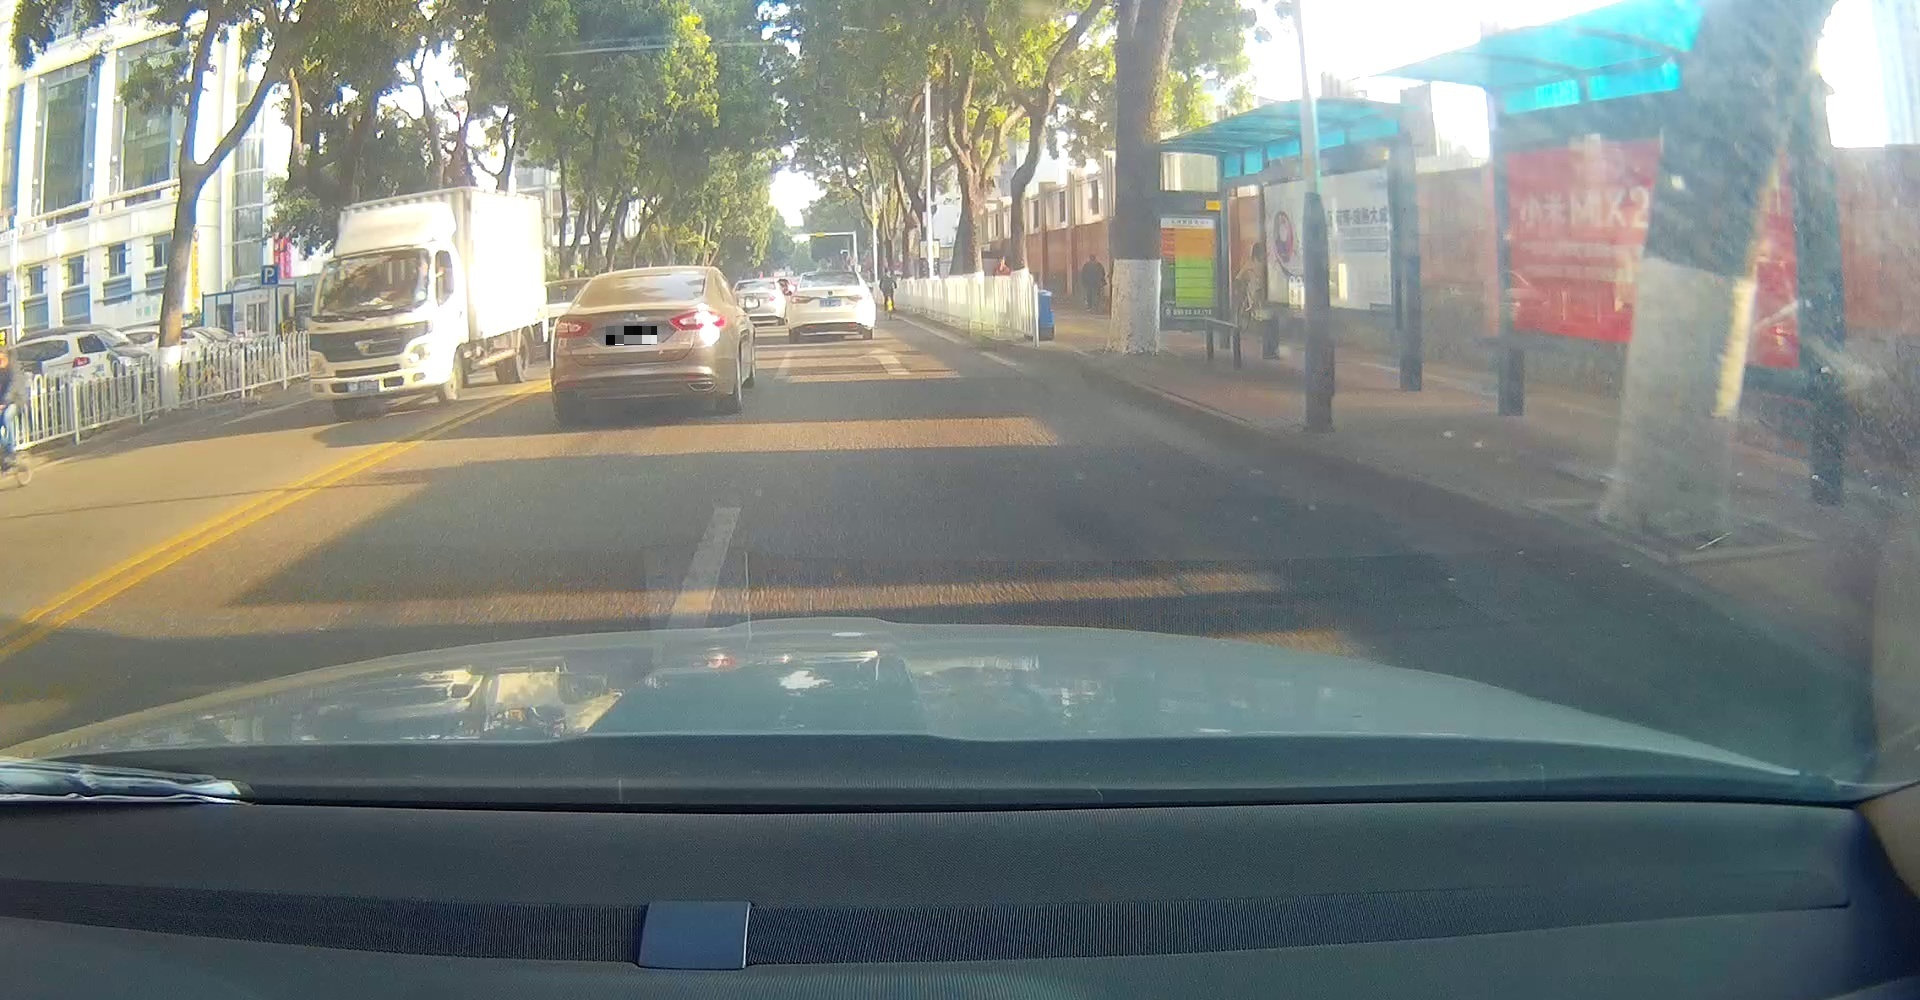L_light: (554, 320, 590, 339), (790, 294, 811, 305)
R_light: (668, 310, 725, 332), (847, 294, 863, 302)
T_light: (634, 275, 658, 280), (820, 273, 833, 277)
day-no: (549, 266, 726, 424), (787, 270, 876, 343)
plate_1: (606, 326, 657, 345)
